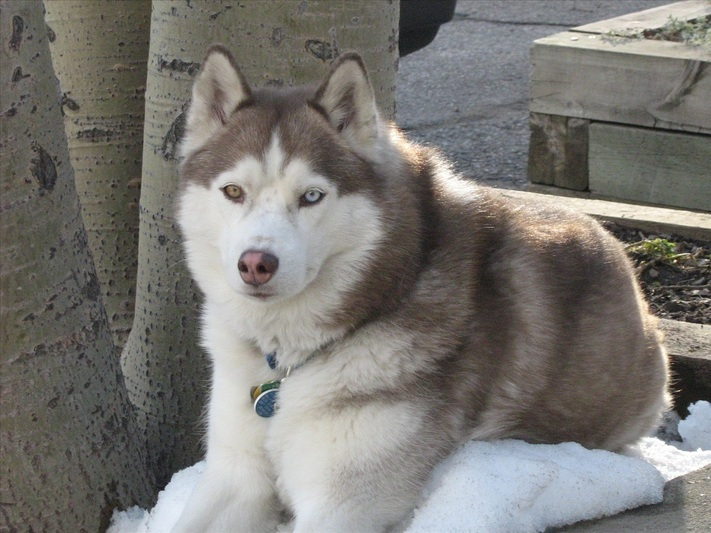dog: (169, 49, 674, 531)
